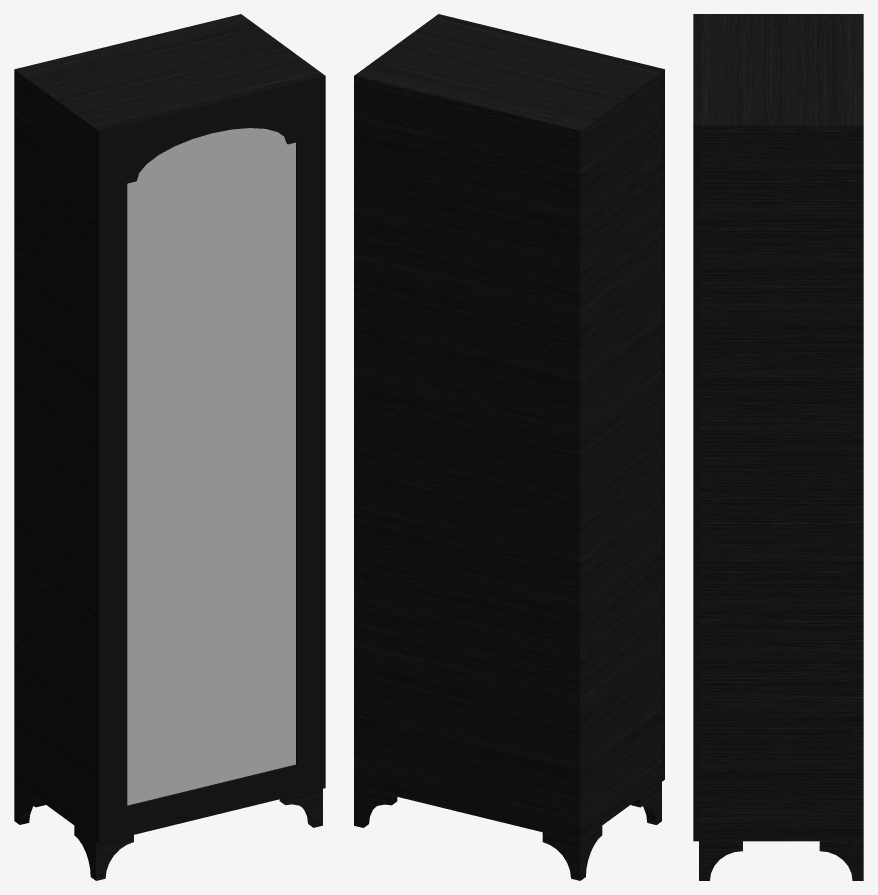
Rendered from Cabinet - Tall Black.obj.
3 views of the same model, side by side, from view 1: azimuth 30°, elevation 25°; view 2: azimuth 150°, elevation 25°; view 3: azimuth 270°, elevation 25° (orthographic).
Visible parts, largest first — view 1: Glass, Body, Door; view 2: Body, Door; view 3: Body, Door.
Boxes of the visible parts, <box> form: Glass: <box>127,128,295,805</box>; Body: <box>14,14,322,880</box>; Door: <box>96,74,325,843</box>; Body: <box>354,16,661,880</box>; Door: <box>436,14,664,781</box>; Body: <box>699,14,863,880</box>; Door: <box>693,14,698,841</box>.
Size of the model in its own units: 0.6096 by 1.93 by 0.3937.
